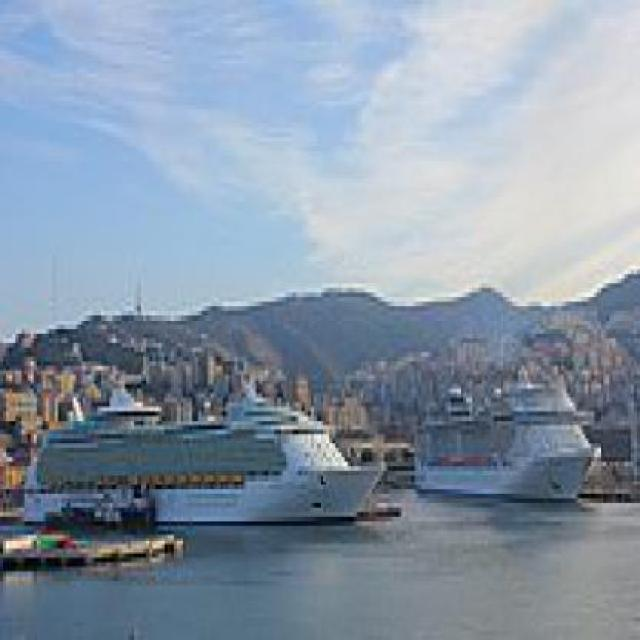cruise: (17, 362, 394, 536), (403, 366, 614, 522)
